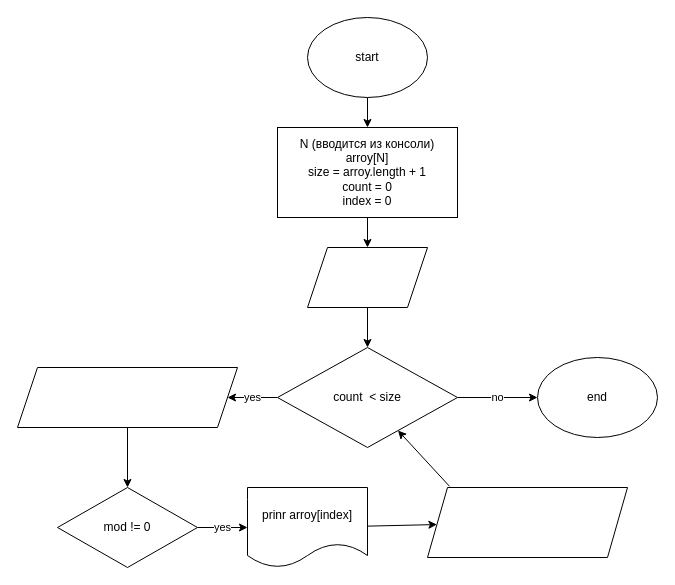
Image size: 675x585. Some labels were removed from this diagram. Each missing label, with the centre of its shape:
arrow[index] = arrow[index = 1 count = count + 1: point (527, 522)
arroy.index = 1: point (367, 277)
double div = arrow[index] / 2 double mod = arrow[index] % 2: point (127, 397)
